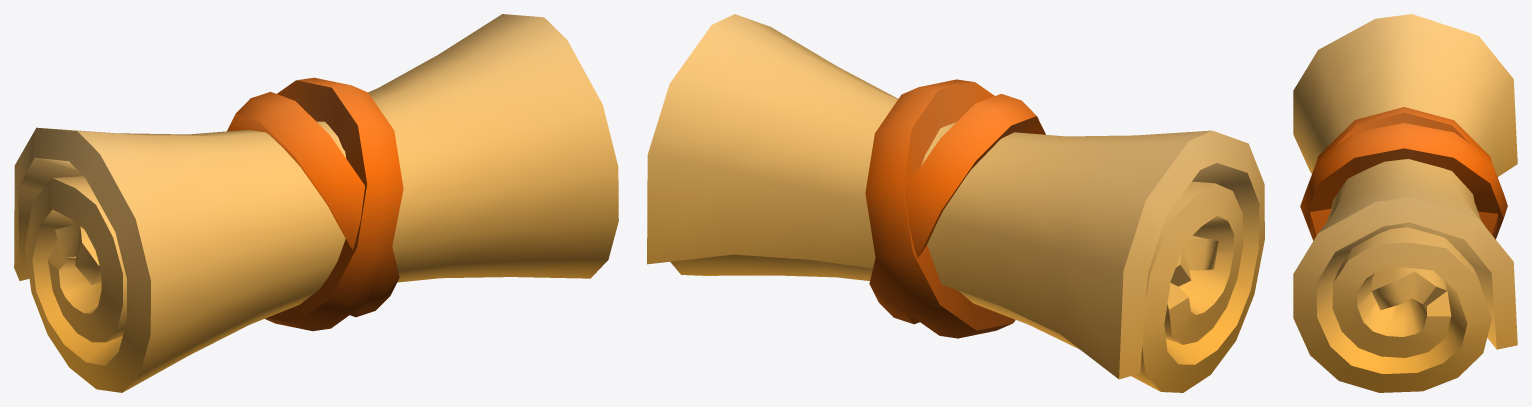
The model's file is Collectable_Scroll_01.fbx.
The picture shows the model from 3 angles, left to right: view 1: azimuth 30°, elevation 25°; view 2: azimuth 150°, elevation 25°; view 3: azimuth 270°, elevation 25°; orthographic projection. The views are drawn at different scales.
Parts seen in each view (by area): view 1: Collectable_Scroll_01; view 2: Collectable_Scroll_01; view 3: Collectable_Scroll_01.
Boxes of the visible parts, x1,y1,x2,y2 form: Collectable_Scroll_01: (14, 14, 618, 392); Collectable_Scroll_01: (647, 14, 1264, 392); Collectable_Scroll_01: (1293, 14, 1517, 392).
Bounding box in the file's own units: 77.86 × 37.04 × 38.59.
Materials: 1 (1 with a texture image).
